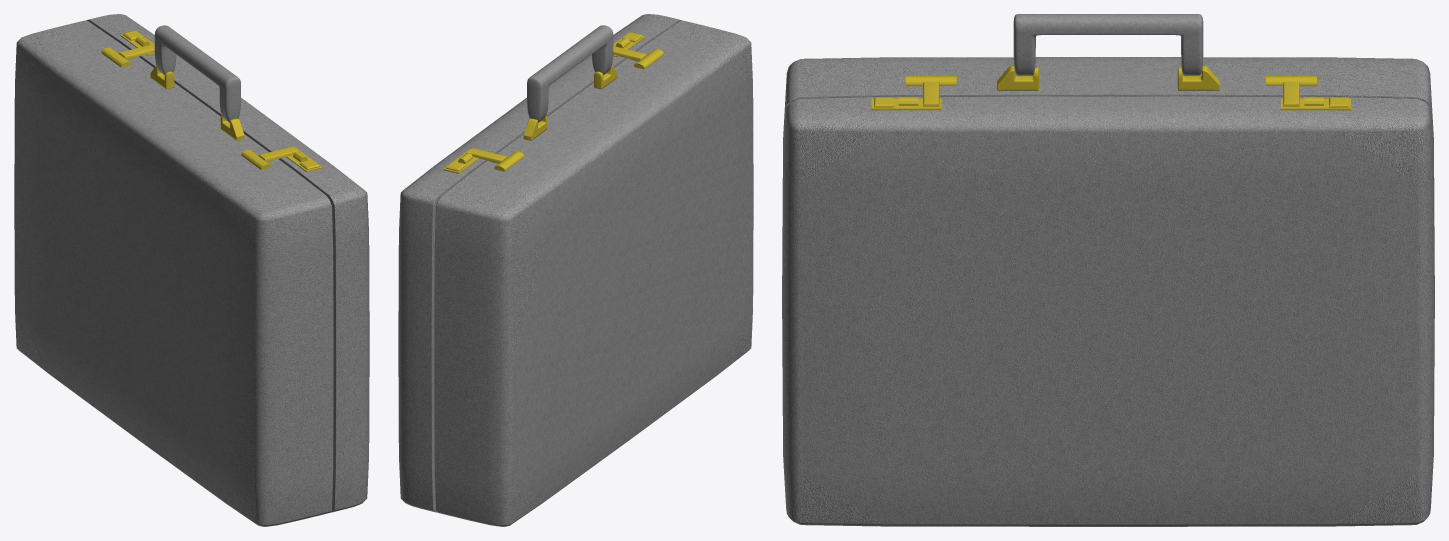
The model's file is Team3_Sanchez_Briefcase.fbx.
3 views of the same model, side by side, from view 1: azimuth 30°, elevation 25°; view 2: azimuth 150°, elevation 25°; view 3: azimuth 270°, elevation 25° (orthographic). The views are drawn at different scales.
Visible parts, largest first — view 1: Team3_Sanchez_Briefcase; view 2: Team3_Sanchez_Briefcase; view 3: Team3_Sanchez_Briefcase.
Part boxes in pixels (x1,y1,x2,y2): Team3_Sanchez_Briefcase: (14,14,369,526); Team3_Sanchez_Briefcase: (398,14,753,526); Team3_Sanchez_Briefcase: (782,14,1434,526).
Size of the model in its own units: 2.14 by 6.41 by 7.78.
2 materials, 1 textured.
